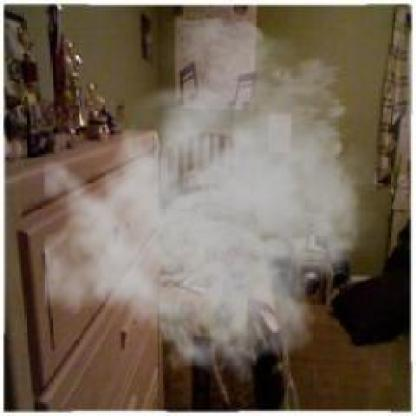Smoke: (44, 16, 394, 384)
